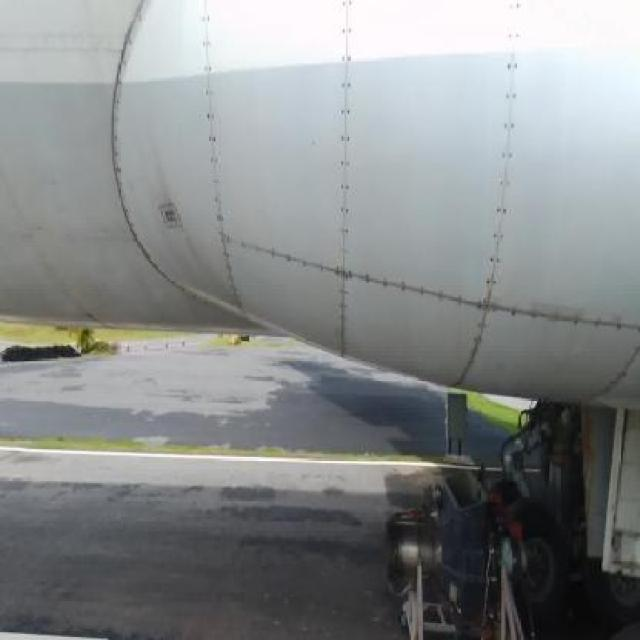Rust: (544, 368, 638, 463), (526, 474, 574, 640)
Scartch: (150, 560, 328, 597)
